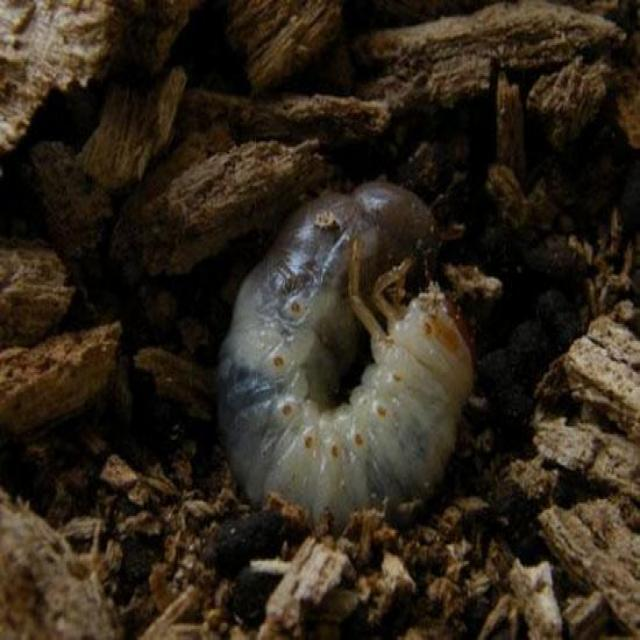Grub-Adult-: (176, 144, 489, 546)
